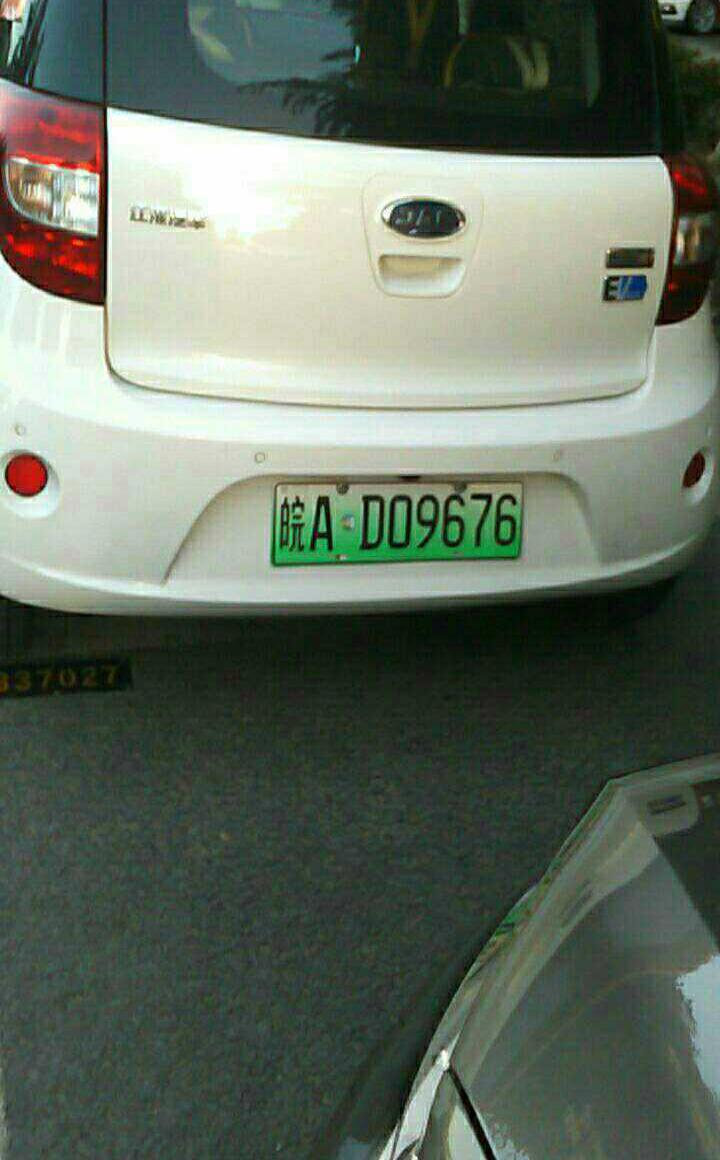car_green: (271, 472, 532, 564)
